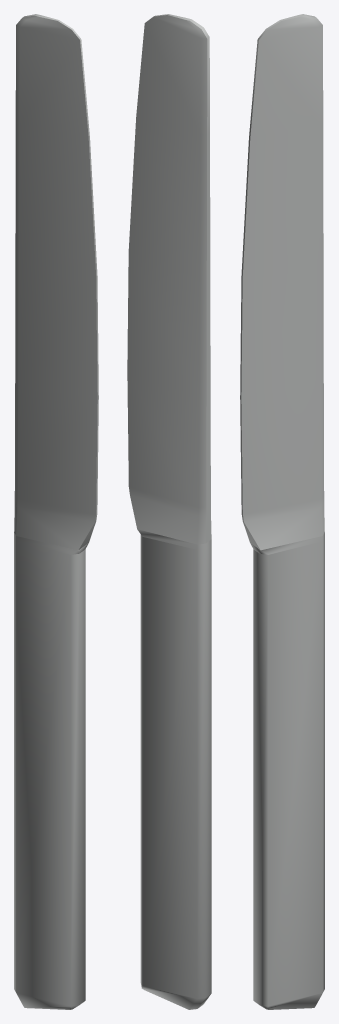
Rendered from CutleryAxe.glb.
3 views of the same model, side by side, from view 1: azimuth 30°, elevation 25°; view 2: azimuth 210°, elevation 25°; view 3: azimuth 270°, elevation 25° (orthographic).
Visible parts, largest first — view 1: Knife; view 2: Knife; view 3: Knife.
Part boxes in pixels (bbox=[...]): Knife: bbox=[14, 14, 98, 1009]; Knife: bbox=[127, 14, 211, 1009]; Knife: bbox=[240, 14, 324, 1009].
Bounding box in the file's own units: 0.0459 × 0.9034 × 0.0701.
1 material, 1 textured.
